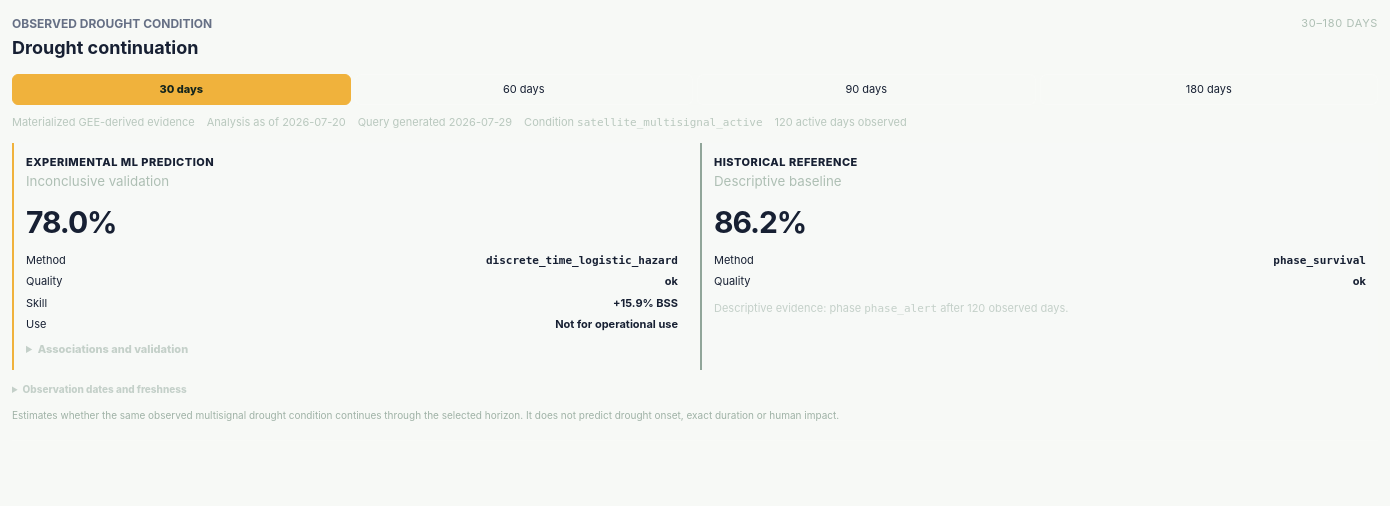
Scenario: Drought continuation UI › shows the satellite target, analysis cut, query time and per-signal freshness
Expected: the text "Observed drought condition" is shown, x1=12 y1=16 x2=212 y2=33
Expected: the text "Analysis as of 2026-07-20" is shown, x1=207 y1=115 x2=346 y2=131
Click the heading "Observation dates and freshness" at (105, 389), box x1=23 y1=383 x2=187 y2=395
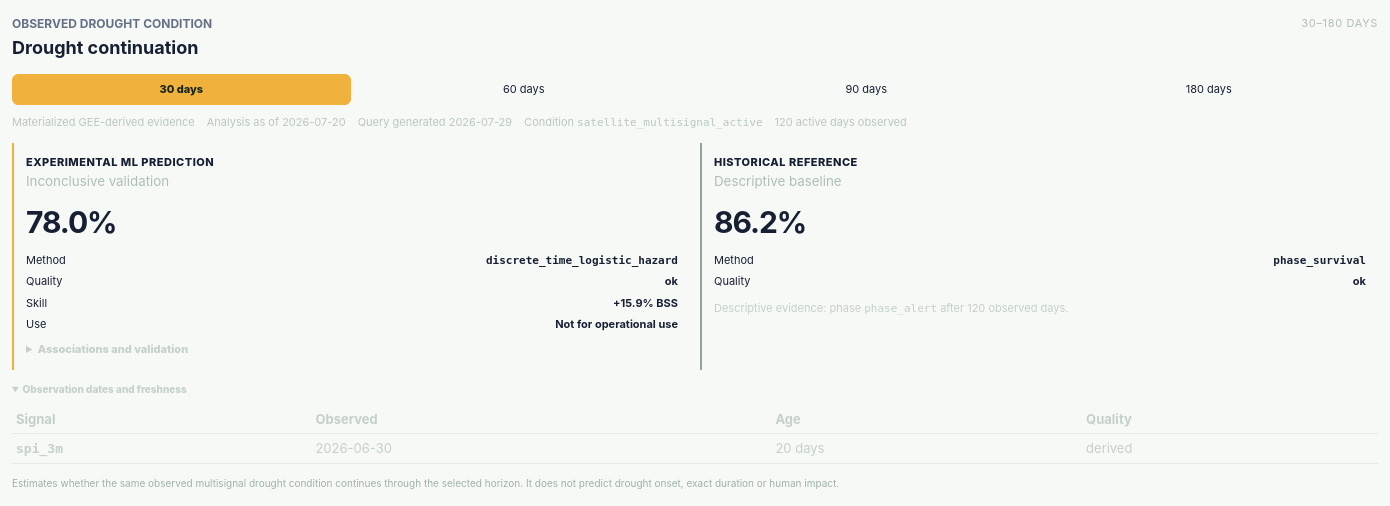
Now the column heading "spi_3m" is shown, box x1=12 y1=434 x2=311 y2=464
Now the text "20 days" is shown, box x1=771 y1=434 x2=1082 y2=464
